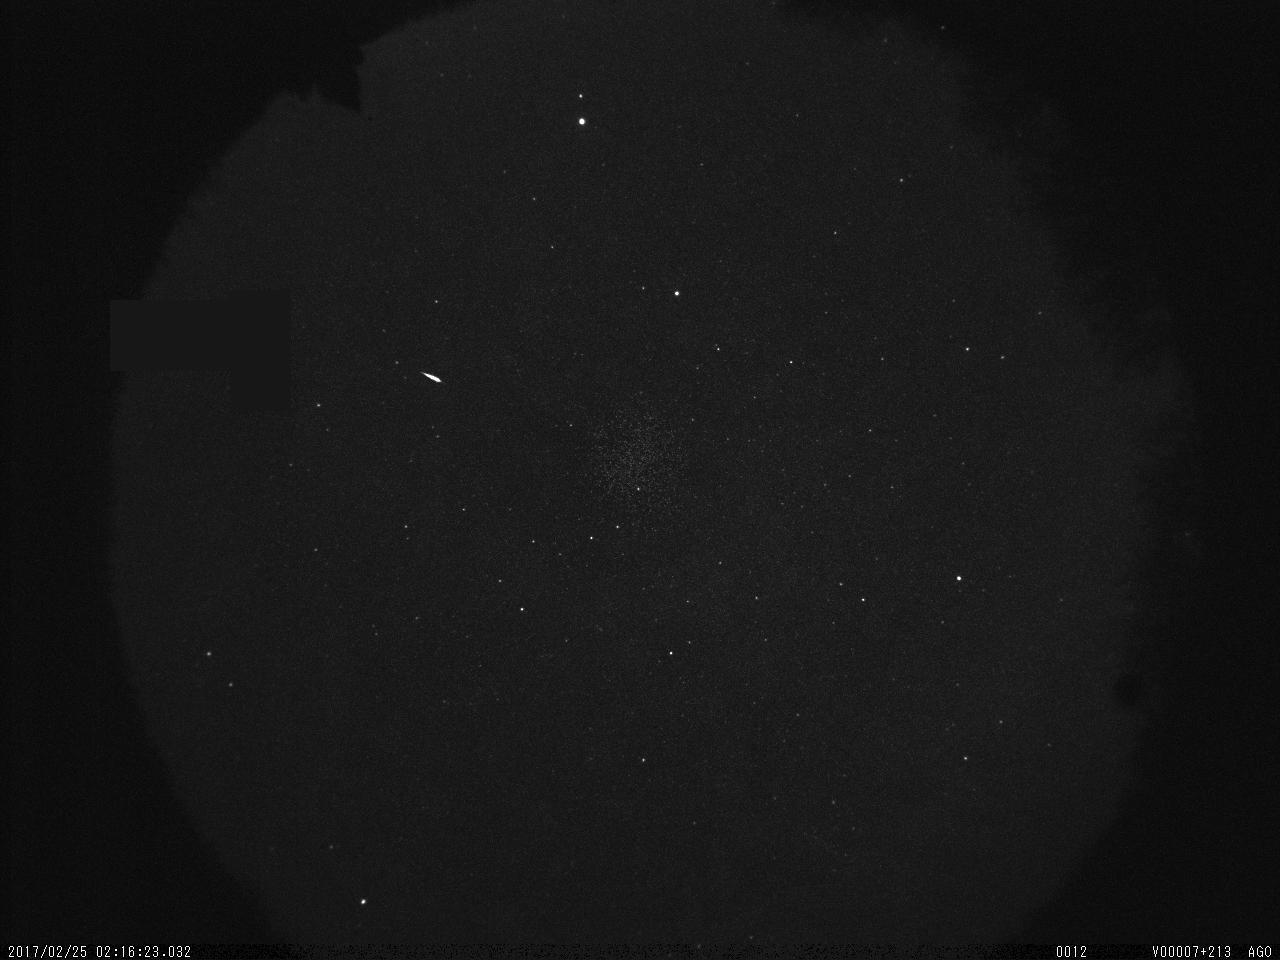meteor: (406, 344, 463, 408)
